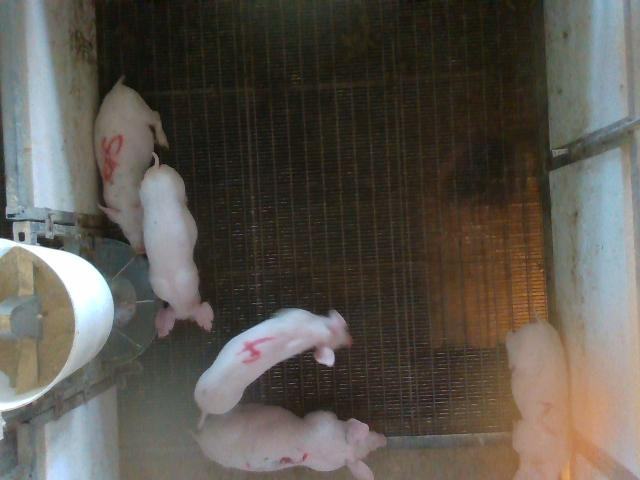pig-2: (506, 319, 569, 478)
pig-3: (192, 405, 385, 479)
pig-4: (194, 309, 352, 427)
pig-5: (94, 76, 169, 253)
